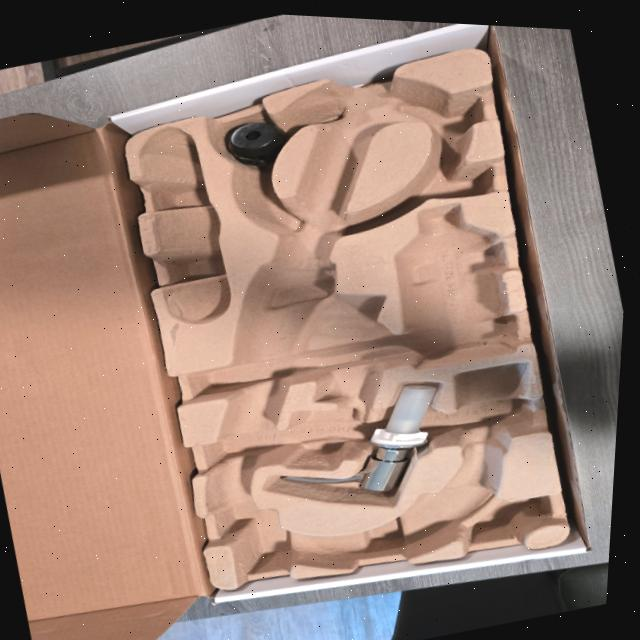1m: (209, 75, 527, 565)
2: (278, 385, 441, 492)
3m: (397, 204, 519, 367)
4m: (139, 125, 228, 322)
5: (227, 122, 285, 166)
6m: (400, 89, 487, 132)
7m: (382, 146, 493, 202)
